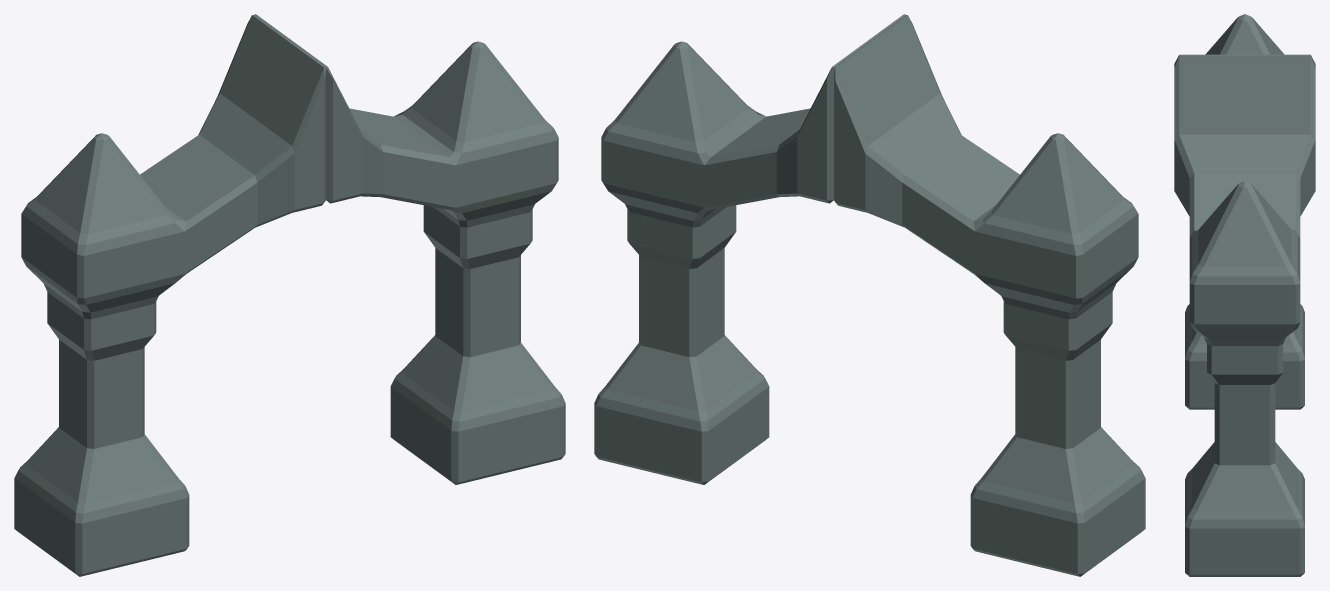
Rendered from portal.fbx.
The picture shows the model from 3 angles, left to right: view 1: azimuth 30°, elevation 25°; view 2: azimuth 150°, elevation 25°; view 3: azimuth 270°, elevation 25°; orthographic projection. The views are drawn at different scales.
Visible parts, largest first — view 1: Portal; view 2: Portal; view 3: Portal.
Part boxes in pixels (bbox=[...]): Portal: bbox=[14, 14, 565, 576]; Portal: bbox=[594, 14, 1145, 576]; Portal: bbox=[1174, 14, 1315, 576].
Size of the model in its own units: 11408 by 10115 by 3118.
